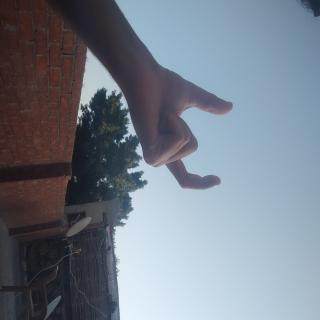NOON: (35, 106, 147, 270)
